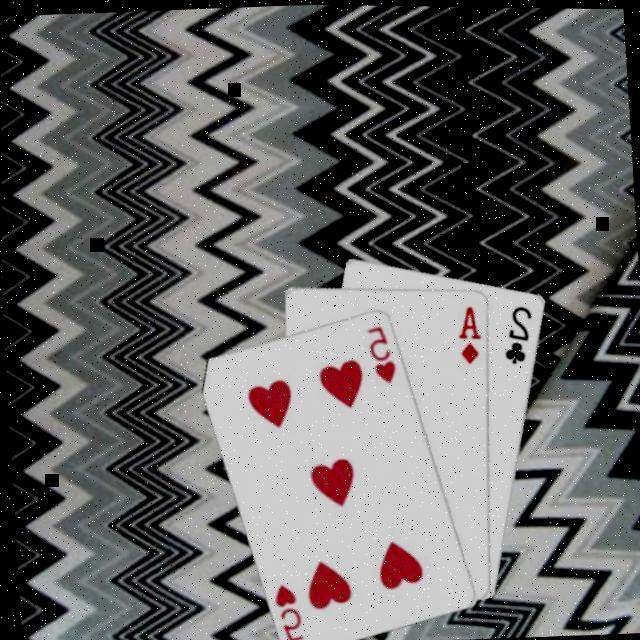2C: (499, 301, 537, 367)
5H: (364, 322, 400, 388), (270, 580, 305, 640)
AD: (455, 303, 486, 366)
